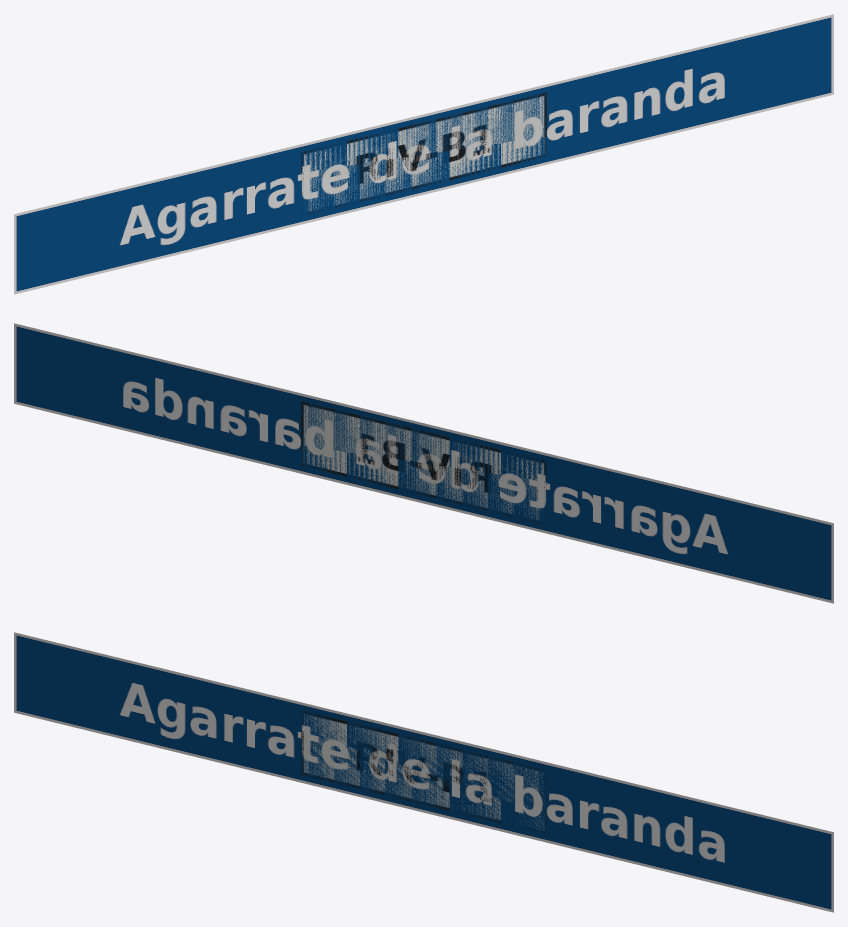
File: SM_Senaletica_Rivera.fbx
The picture shows the model from 3 angles, top to bottom: view 1: azimuth 30°, elevation 25°; view 2: azimuth 150°, elevation 25°; view 3: azimuth 330°, elevation 25°; orthographic projection.
Parts seen in each view (by area): view 1: SM_Cartel_Baranda, SM_Etiqueta_RIV_B1; view 2: SM_Cartel_Baranda, SM_Etiqueta_RIV_B1; view 3: SM_Cartel_Baranda, SM_Etiqueta_RIV_B1.
Boxes of the visible parts, x1=… form: SM_Cartel_Baranda: x1=14, y1=14, x2=833, y2=294; SM_Etiqueta_RIV_B1: x1=301, y1=92, x2=546, y2=214; SM_Cartel_Baranda: x1=14, y1=323, x2=833, y2=603; SM_Etiqueta_RIV_B1: x1=301, y1=401, x2=546, y2=523; SM_Cartel_Baranda: x1=14, y1=632, x2=833, y2=912; SM_Etiqueta_RIV_B1: x1=301, y1=711, x2=546, y2=834.
Bounding box in the file's own units: 0.8 × 0.075 × 0.
